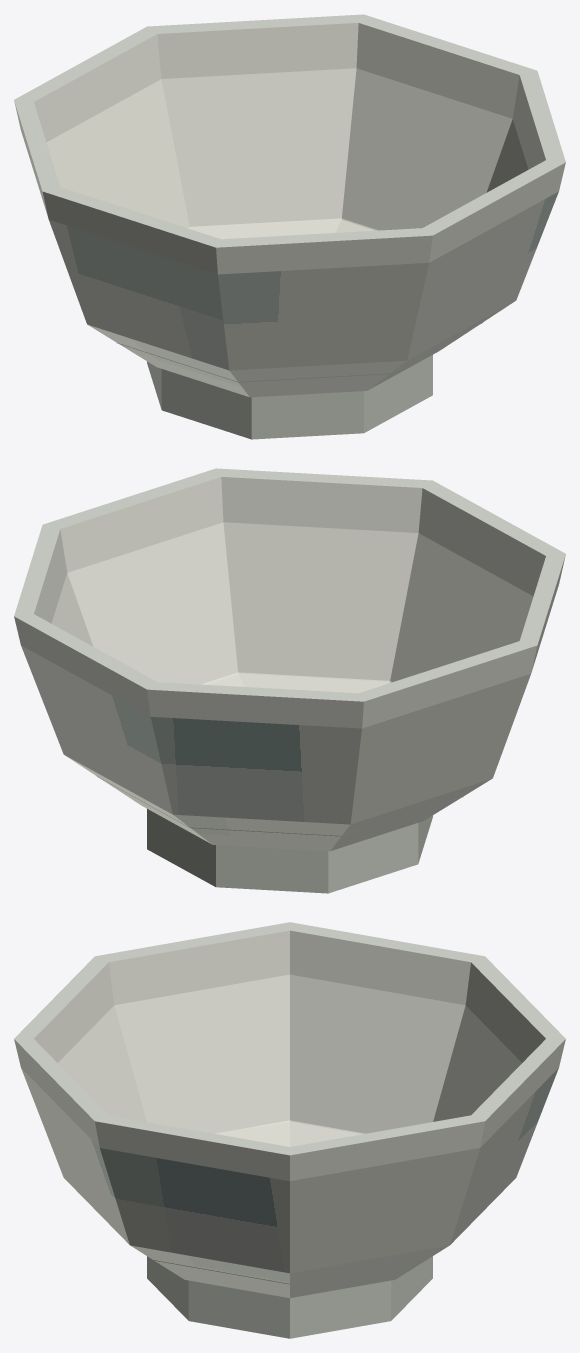
File: antique-nabeshima.glb
3 views of the same model, one above another, from view 1: azimuth 30°, elevation 25°; view 2: azimuth 150°, elevation 25°; view 3: azimuth 270°, elevation 25° (orthographic). The views are drawn at different scales.
Parts seen in each view (by area): view 1: antique-nabeshima/ceramic-inner-wall-6, antique-nabeshima/ceramic-outer-mid-2, antique-nabeshima/ceramic-inner-upper-5, antique-nabeshima/ceramic-rim-4, antique-nabeshima/ceramic-outer-upper-3, antique-nabeshima/ceramic-foot-outer-1, antique-nabeshima/ceramic-outer-lower-1, antique-nabeshima/ceramic-inner-lower-7; view 2: antique-nabeshima/ceramic-inner-wall-6, antique-nabeshima/ceramic-outer-mid-2, antique-nabeshima/ceramic-inner-upper-5, antique-nabeshima/ceramic-rim-4, antique-nabeshima/ceramic-outer-upper-3, antique-nabeshima/ceramic-foot-outer-1, antique-nabeshima/ceramic-outer-lower-1, antique-nabeshima/ceramic-inner-lower-7; view 3: antique-nabeshima/ceramic-inner-wall-6, antique-nabeshima/ceramic-outer-mid-2, antique-nabeshima/ceramic-inner-upper-5, antique-nabeshima/ceramic-outer-upper-3, antique-nabeshima/ceramic-rim-4, antique-nabeshima/ceramic-foot-outer-1, antique-nabeshima/ceramic-outer-lower-1, antique-nabeshima/ceramic-inner-lower-7.
Boxes of the visible parts, x1,y1,x2,y2 form: antique-nabeshima/ceramic-inner-wall-6: (46,68,528,382); antique-nabeshima/ceramic-outer-mid-2: (49,191,558,370); antique-nabeshima/ceramic-inner-upper-5: (34,23,545,169); antique-nabeshima/ceramic-rim-4: (14,14,565,247); antique-nabeshima/ceramic-outer-upper-3: (14,101,565,274); antique-nabeshima/ceramic-foot-outer-1: (147,355,432,439); antique-nabeshima/ceramic-outer-lower-1: (88,218,514,397); antique-nabeshima/ceramic-inner-lower-7: (189,219,374,239); antique-nabeshima/ceramic-inner-wall-6: (51,522,533,836); antique-nabeshima/ceramic-outer-mid-2: (21,645,530,824); antique-nabeshima/ceramic-inner-upper-5: (34,477,545,623); antique-nabeshima/ceramic-rim-4: (14,468,565,701); antique-nabeshima/ceramic-outer-upper-3: (14,555,565,728); antique-nabeshima/ceramic-foot-outer-1: (147,809,432,893); antique-nabeshima/ceramic-outer-lower-1: (65,672,491,851); antique-nabeshima/ceramic-inner-lower-7: (205,673,390,693); antique-nabeshima/ceramic-inner-wall-6: (58,974,521,1284); antique-nabeshima/ceramic-outer-mid-2: (21,1068,558,1273); antique-nabeshima/ceramic-inner-upper-5: (34,930,545,1062); antique-nabeshima/ceramic-outer-upper-3: (14,1039,565,1181); antique-nabeshima/ceramic-rim-4: (14,922,565,1155); antique-nabeshima/ceramic-foot-outer-1: (147,1256,432,1338); antique-nabeshima/ceramic-outer-lower-1: (130,1120,449,1297); antique-nabeshima/ceramic-inner-lower-7: (218,1121,361,1146).
Size of the model in its own units: 0.5625 by 0.2694 by 0.5625.
4 materials, 4 textured.
